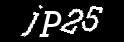2: (59, 8, 83, 33)
5: (81, 6, 103, 31)
P: (39, 11, 61, 36)
j: (20, 5, 42, 36)
